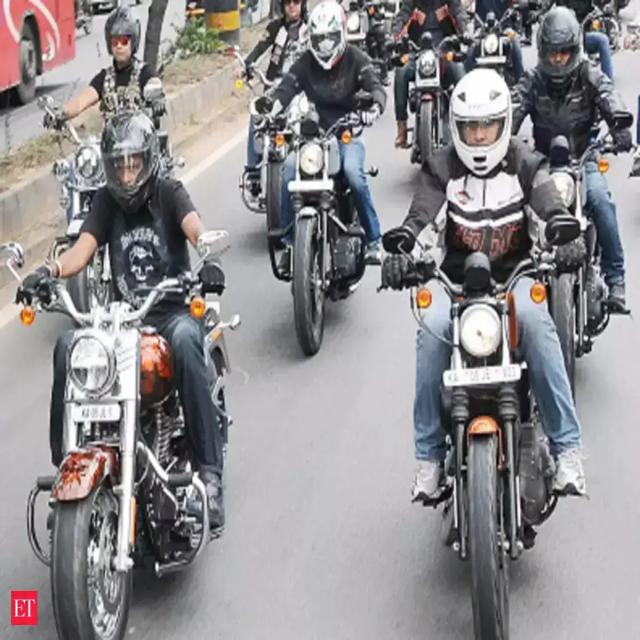Vehicles: (366, 201, 603, 640), (6, 242, 255, 640), (250, 100, 395, 380), (513, 123, 640, 392), (387, 28, 463, 184), (462, 0, 520, 118)
